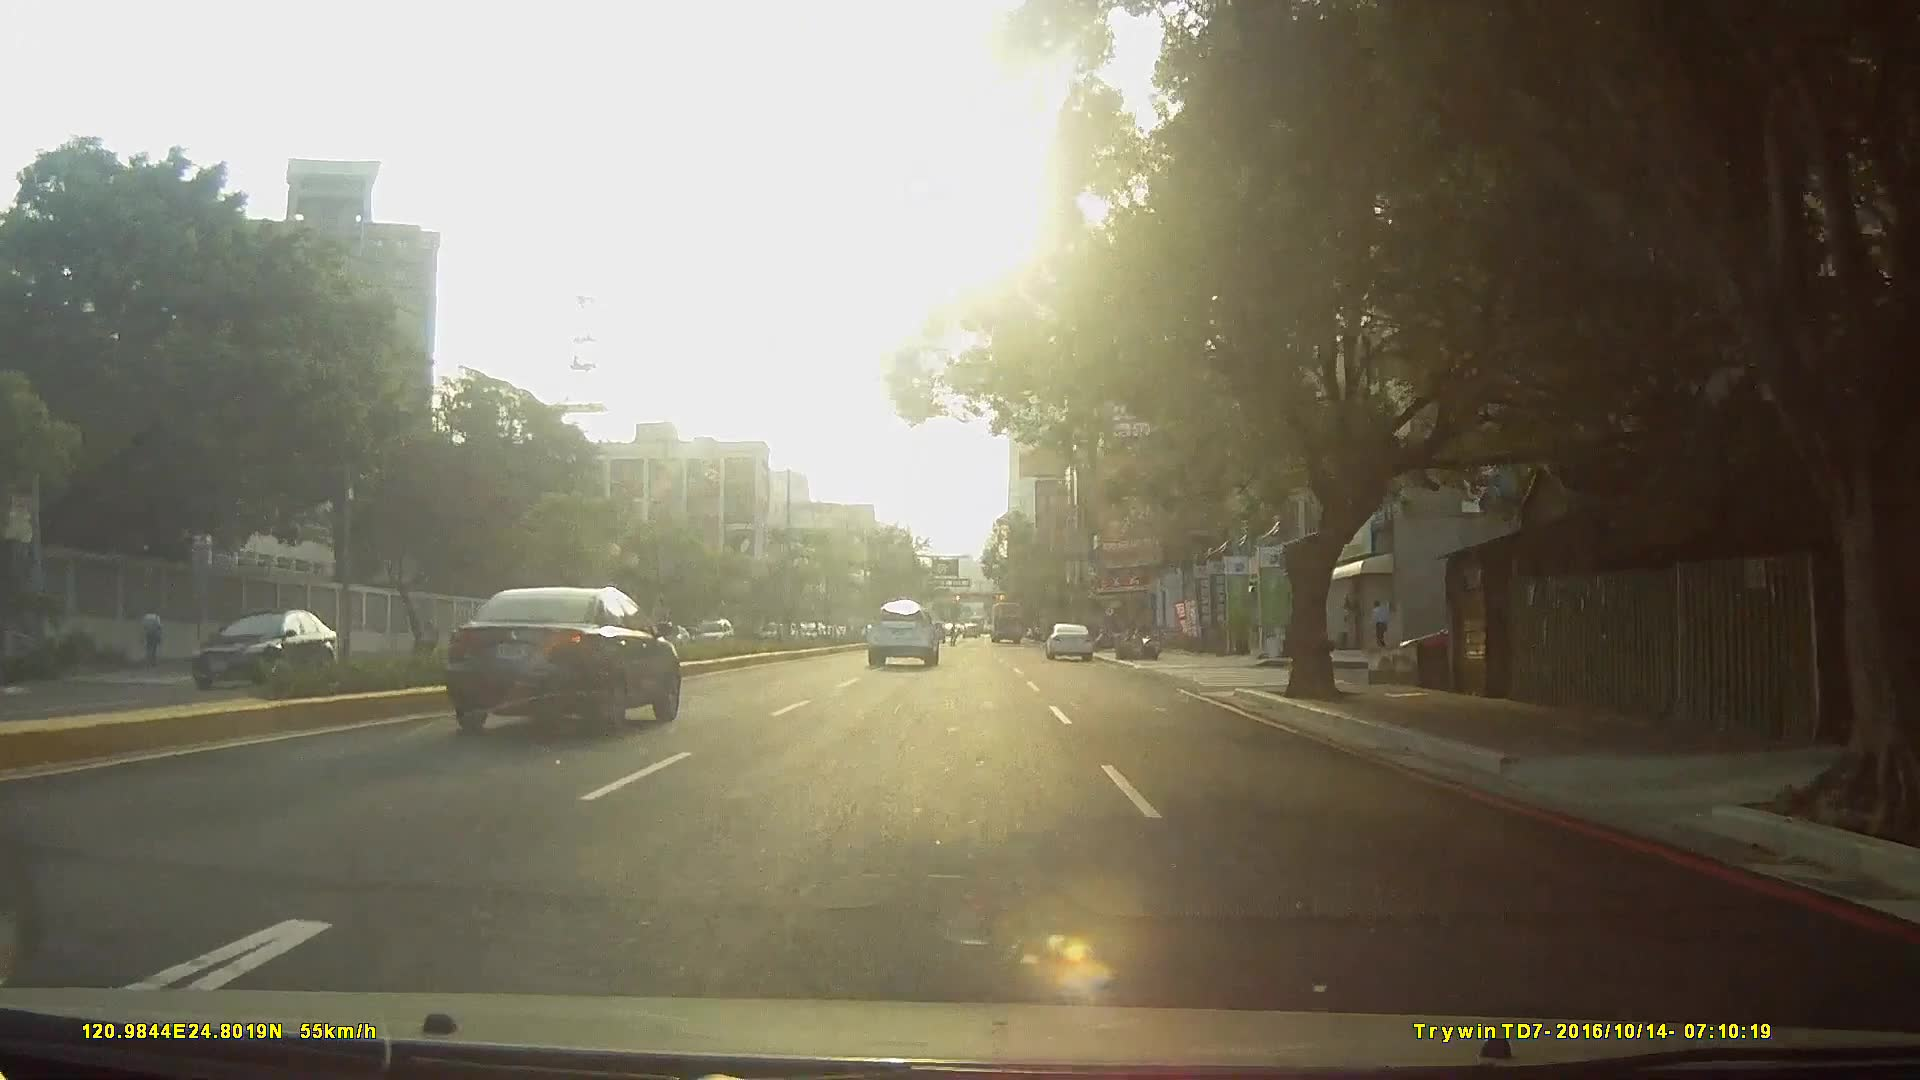pedestrian: (143, 606, 167, 667), (1371, 599, 1391, 650)
vehicle: (446, 587, 683, 742), (183, 607, 350, 697), (864, 600, 941, 670), (1043, 623, 1094, 664), (986, 602, 1026, 647)
